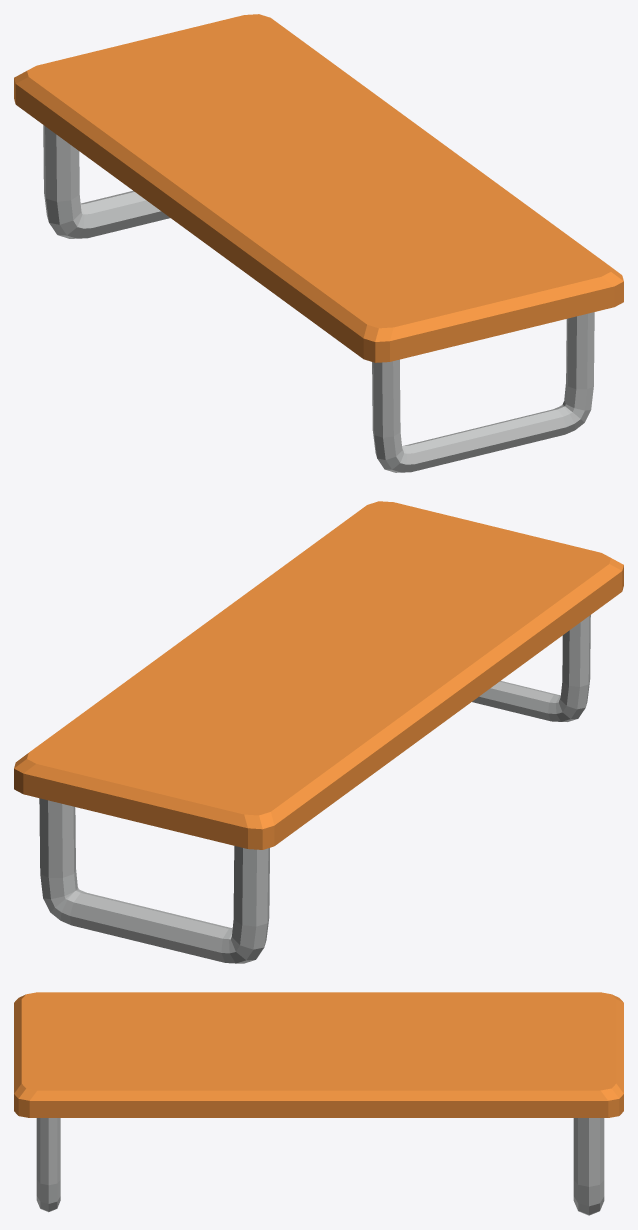
File: table_model.FBX
3 views of the same model, one above another, from view 1: azimuth 30°, elevation 25°; view 2: azimuth 150°, elevation 25°; view 3: azimuth 270°, elevation 25° (orthographic). The views are drawn at different scales.
Visible parts, largest first — view 1: table; view 2: table; view 3: table.
Boxes of the visible parts, x1,y1,x2,y2 form: table: (14,14,623,472); table: (14,501,623,963); table: (14,992,623,1215).
Size of the model in its own units: 2.69 by 1.66 by 6.61.
